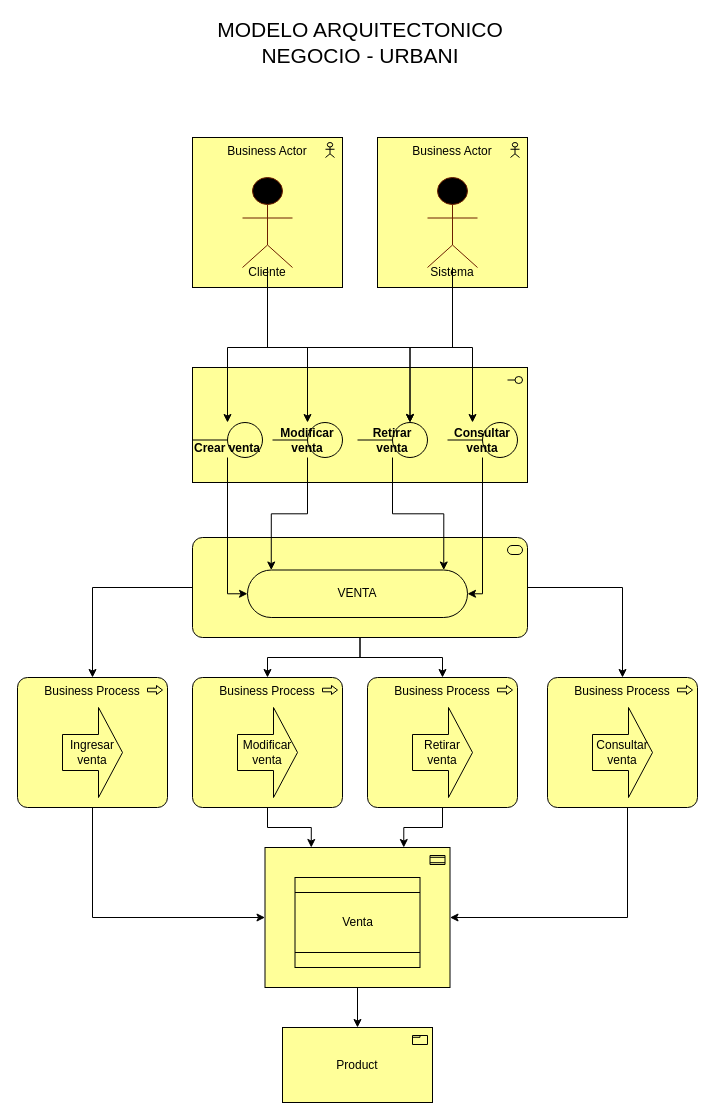
The diagram is 715 pixels wide and 1120 high, and some of its shapes have lost their labels. Each missing label, with the box of its shape:
Business Interface: (192, 366, 528, 482)
Business Service: (192, 536, 528, 638)
Transaccion: (264, 846, 450, 988)
